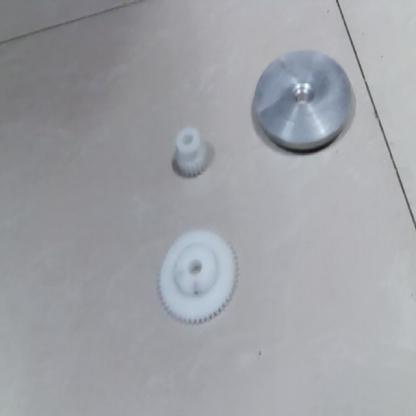FOD: (247, 48, 361, 157), (153, 222, 245, 326), (170, 126, 212, 182)
